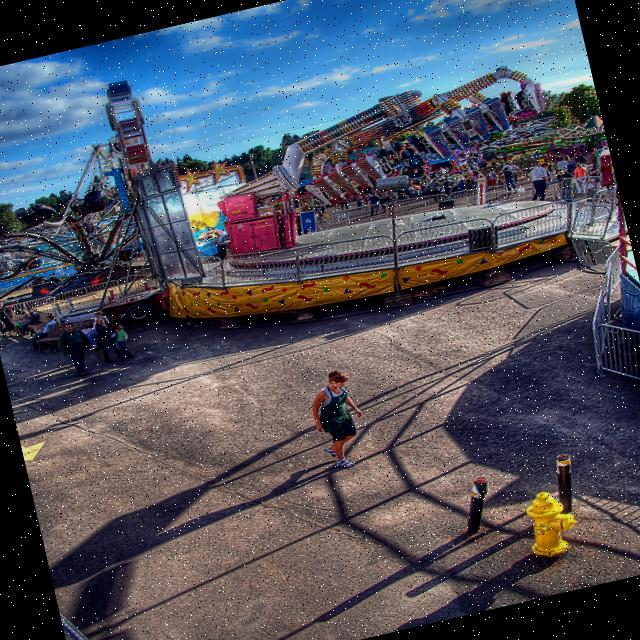fire_hydrant: (518, 484, 583, 562)
